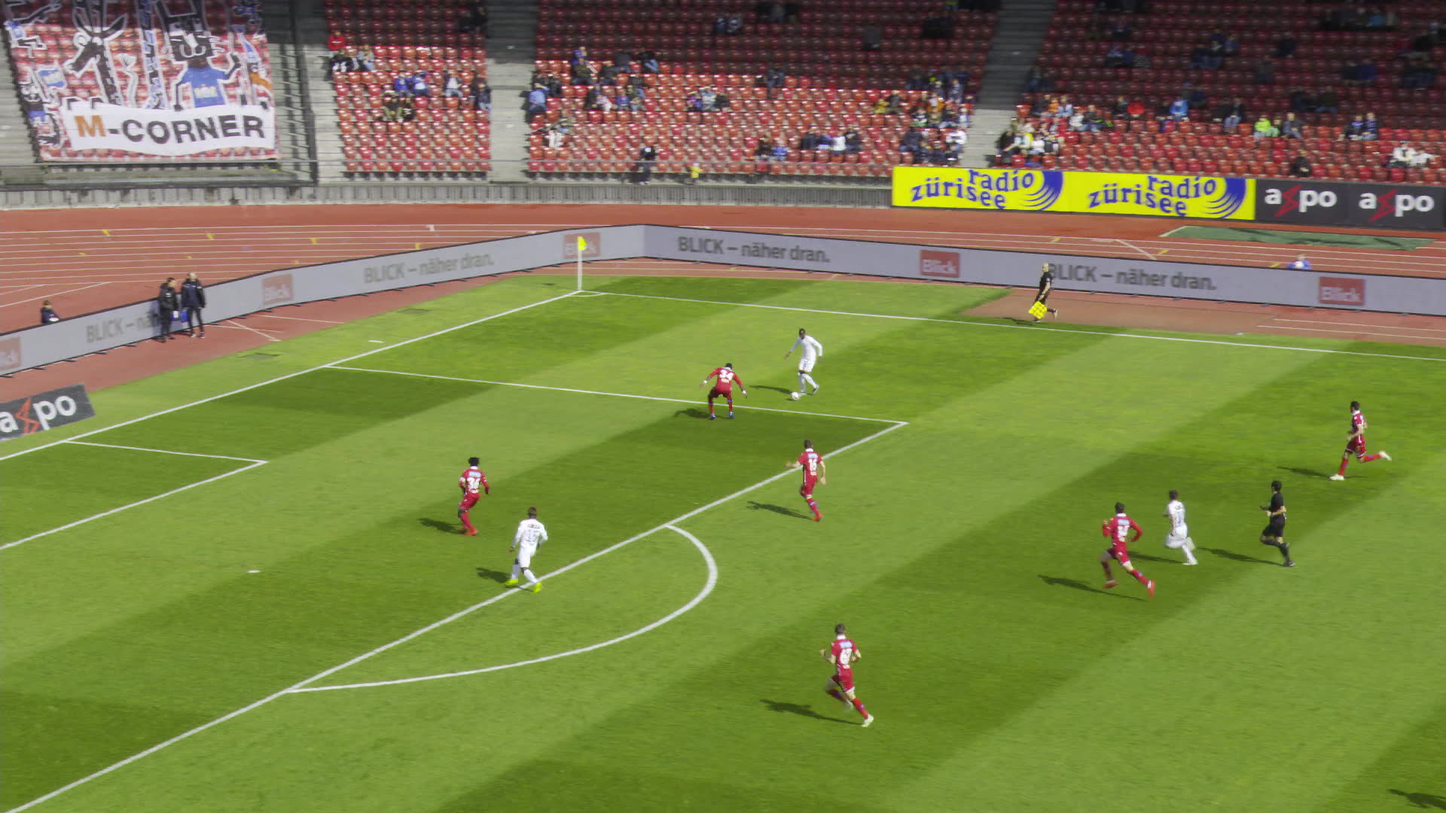ball: (789, 390, 799, 399)
player: (820, 624, 884, 721), (1099, 503, 1154, 595), (1158, 488, 1220, 563), (441, 453, 496, 535), (787, 439, 838, 520), (503, 505, 550, 590), (1340, 400, 1383, 481), (691, 361, 747, 421), (786, 325, 821, 397)
referee: (1252, 477, 1310, 565), (1026, 262, 1060, 324)
